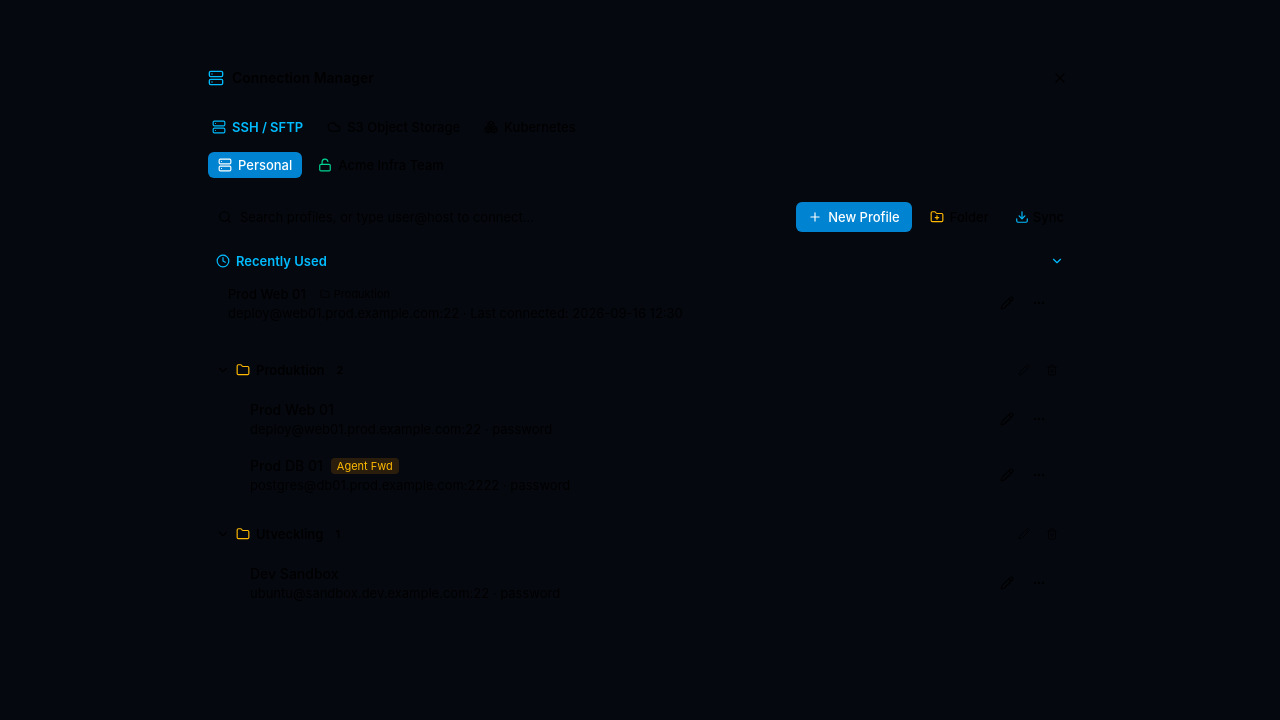
it: ConnectionManagerModal › Team Vault view (docs/team-vault-plan.md multi-team plan: every known team, each its own section) › shows each known team as its own tab next to Personal
Click the button "Acme Infra Team".
click(387, 165)  # box [308,152,466,178]
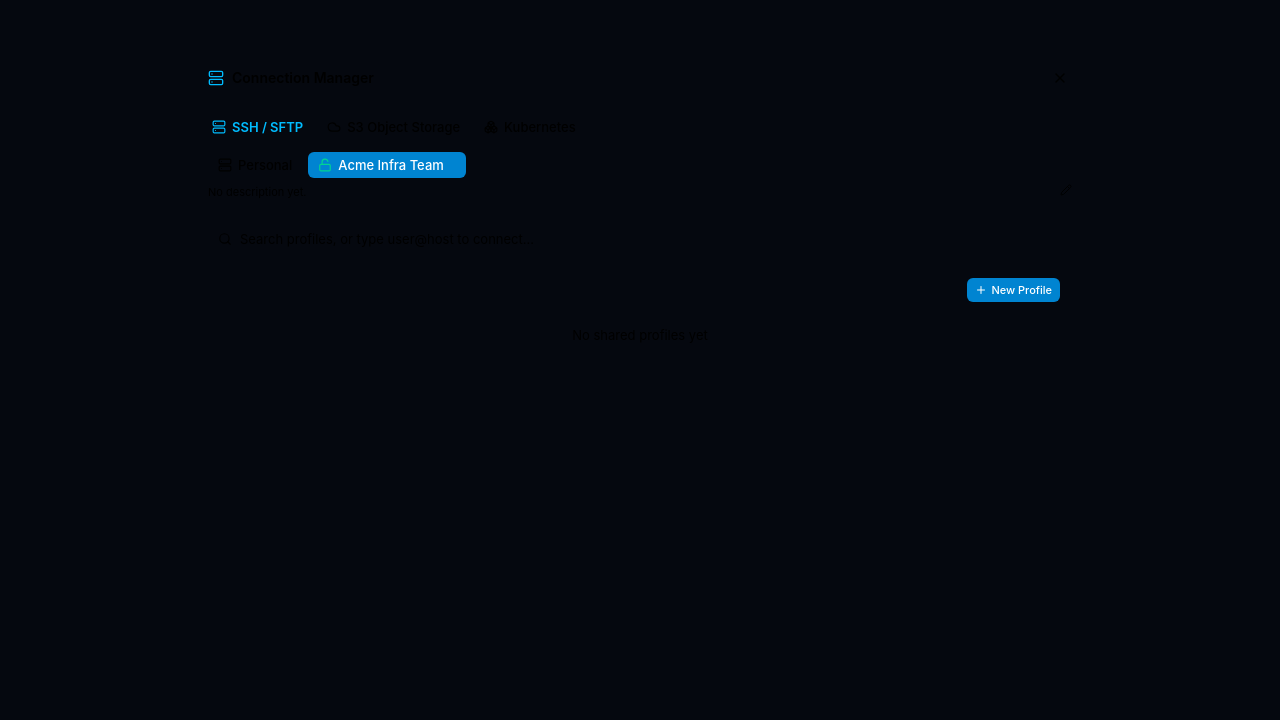
Expected: the number of buttons "Acme Infra Team" is 1, [308,152,466,178]
